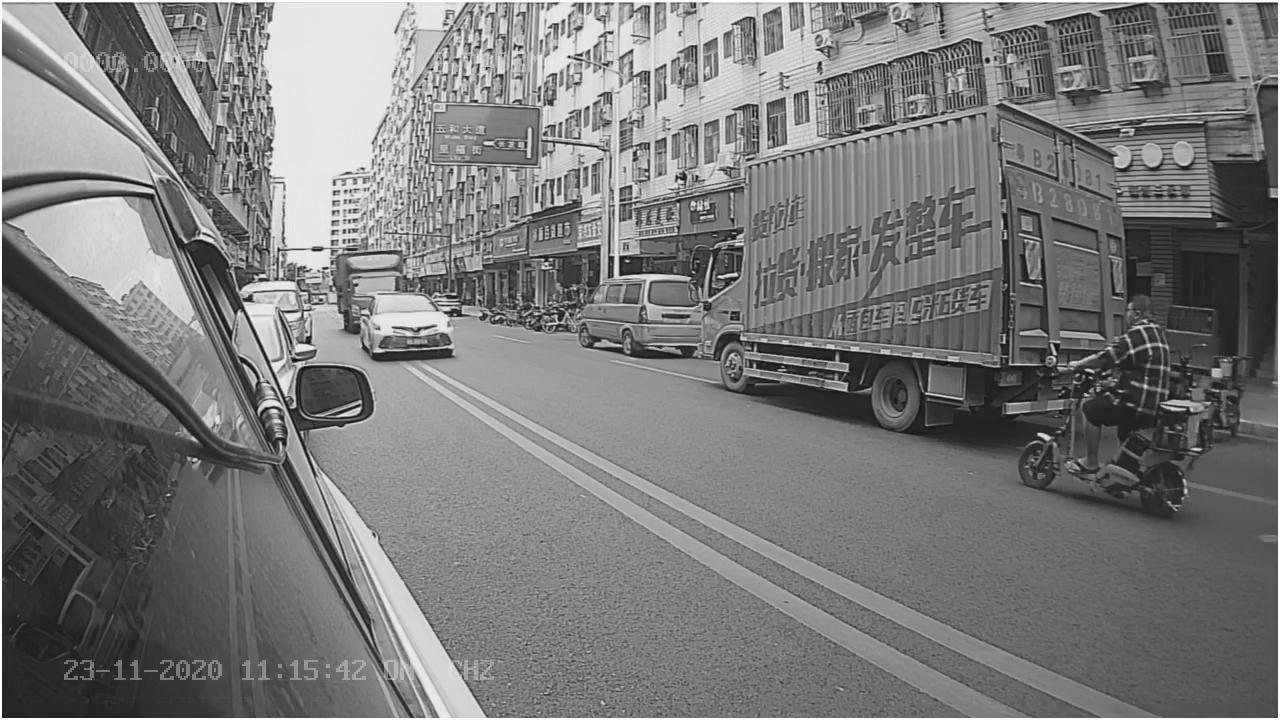person: (1092, 289, 1175, 396)
